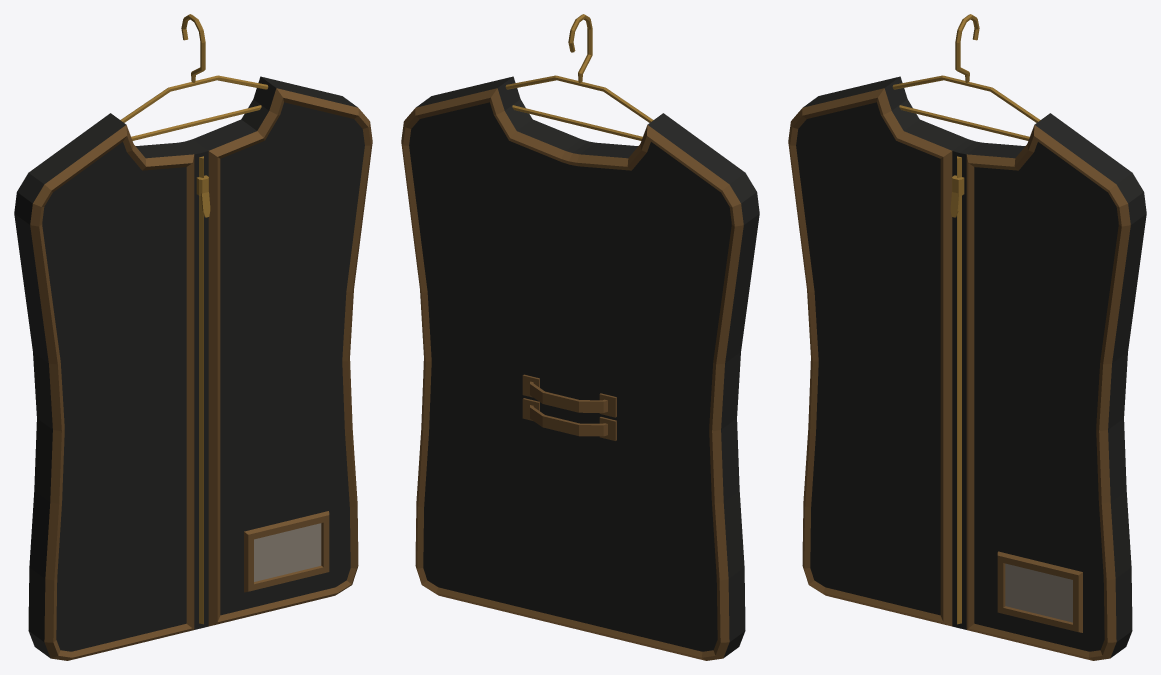
The model's file is garment-bag-51900a.glb.
3 renders of one model, left to right at view 1: azimuth 30°, elevation 25°; view 2: azimuth 150°, elevation 25°; view 3: azimuth 330°, elevation 25°, orthographic.
Visible parts, largest first — view 1: garment-bag-body; view 2: garment-bag-body; view 3: garment-bag-body.
Boxes of the visible parts, x1,y1,x2,y2 form: garment-bag-body: (14, 14, 372, 660); garment-bag-body: (401, 14, 759, 660); garment-bag-body: (788, 14, 1146, 660).
Bounding box in the file's own units: 0.768 × 1.3 × 0.1309.
